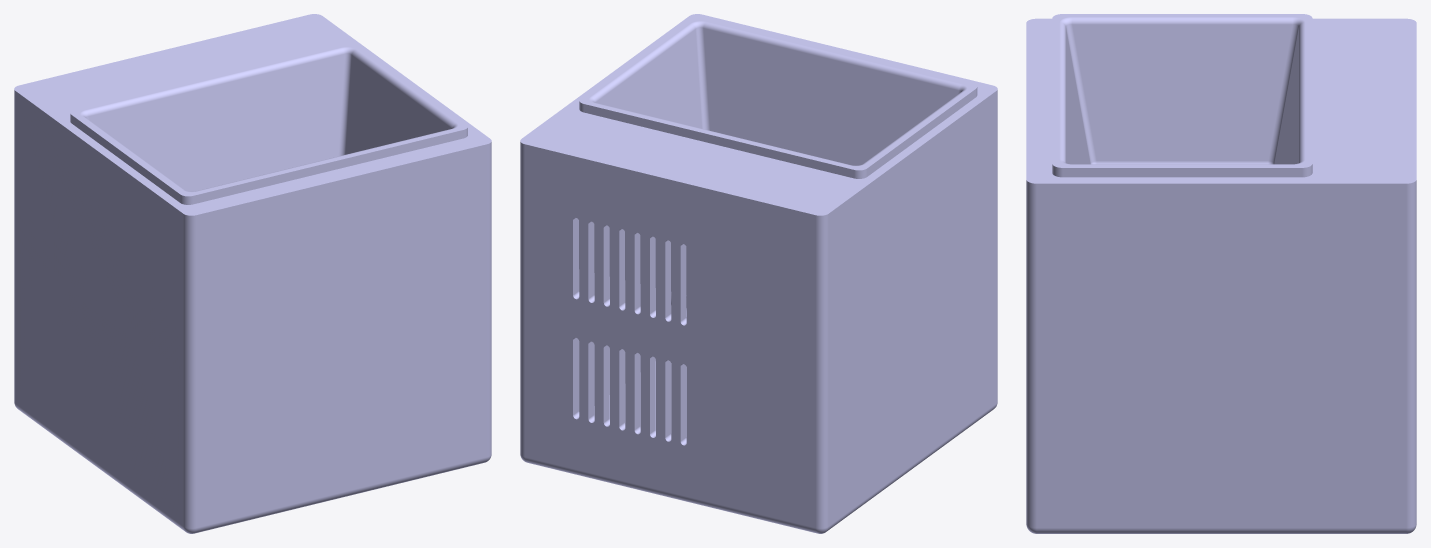
File: Polisher_B.fbx
3 views of the same model, side by side, from view 1: azimuth 30°, elevation 25°; view 2: azimuth 150°, elevation 25°; view 3: azimuth 270°, elevation 25° (orthographic). The views are drawn at different scales.
Visible parts, largest first — view 1: up\up, bottom\bottom.1, Basket\Basket.2; view 2: up\up, bottom\bottom.1, Basket\Basket.2; view 3: up\up, bottom\bottom.1, Basket\Basket.2.
Boxes of the visible parts, left/top/right/bottom form: up\up: left=14, top=14, right=491, bottom=376; bottom\bottom.1: left=14, top=250, right=491, bottom=533; Basket\Basket.2: left=70, top=43, right=467, bottom=204; up\up: left=520, top=14, right=997, bottom=376; bottom\bottom.1: left=520, top=250, right=997, bottom=533; Basket\Basket.2: left=579, top=17, right=977, bottom=178; up\up: left=1026, top=18, right=1416, bottom=360; bottom\bottom.1: left=1026, top=350, right=1416, bottom=533; Basket\Basket.2: left=1052, top=14, right=1312, bottom=177.
Bounding box in the file's own units: 300 × 300 × 308.
